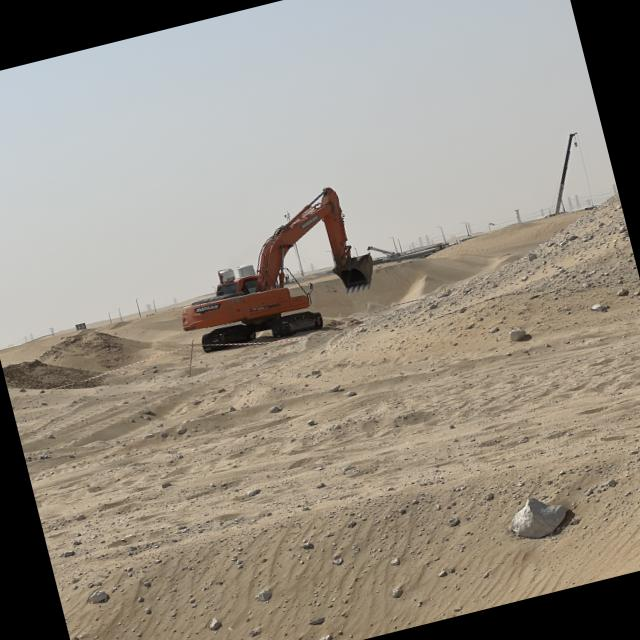Excavator: (153, 173, 387, 364)
